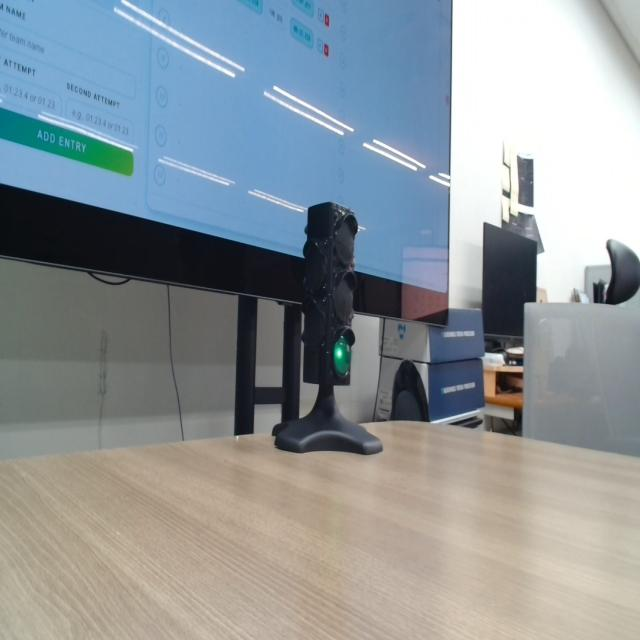green_light: (333, 337, 351, 376)
